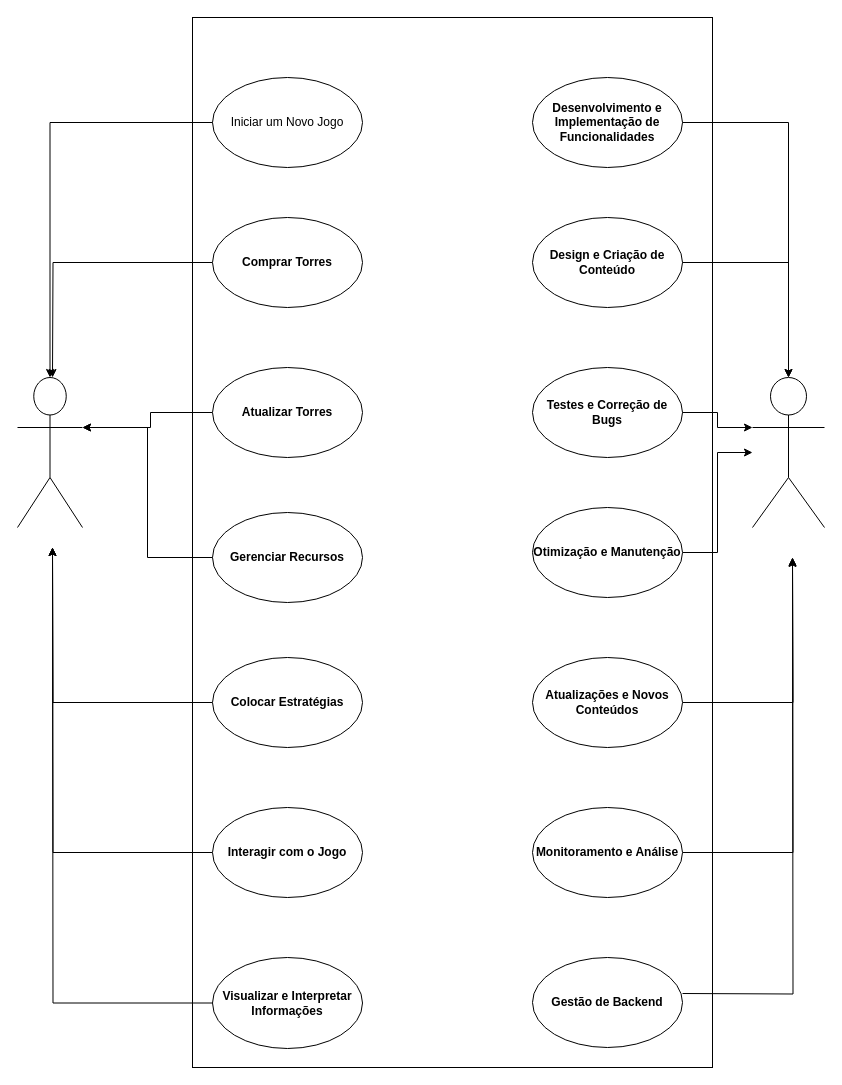
This 842x1085 diagram has some shape labels left out. The centre of each missing label's shape, as x and y in pixels:
"Jogador" belongs at point 49,452.
"Sistema" belongs at point 788,452.
